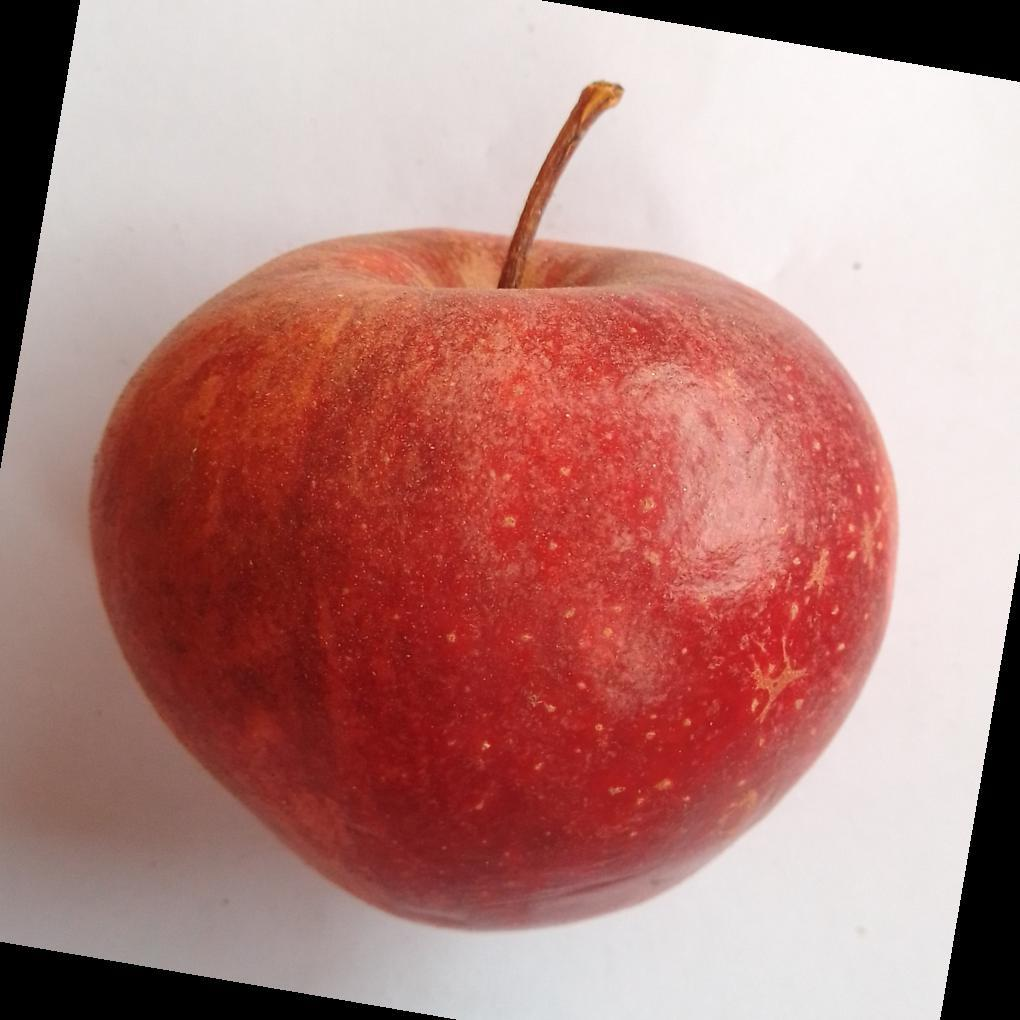FreshGuava: (86, 229, 899, 936)
